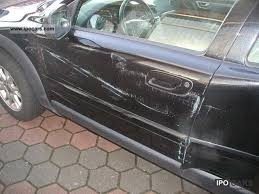Scratch: (40, 54, 166, 135), (188, 96, 207, 122), (176, 139, 191, 165)
